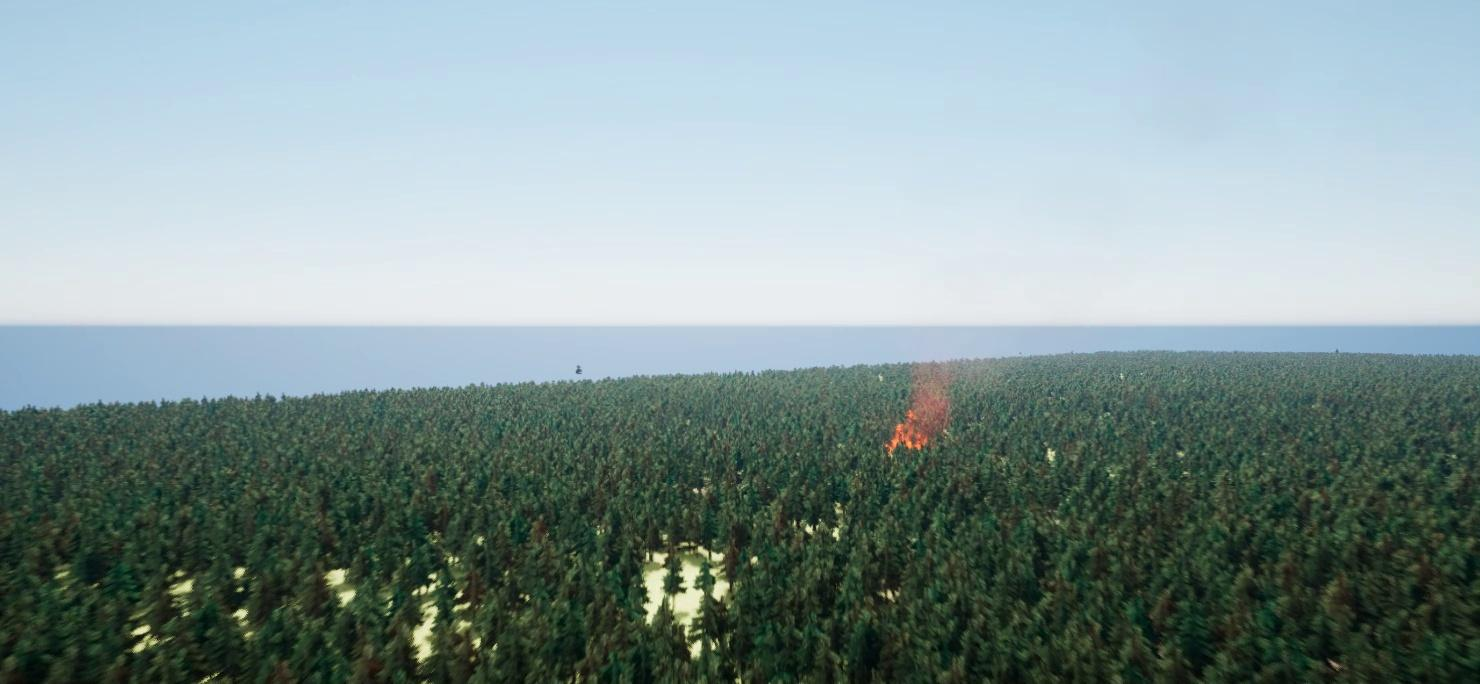fire: (887, 413, 926, 456)
smoke: (912, 352, 982, 429)
